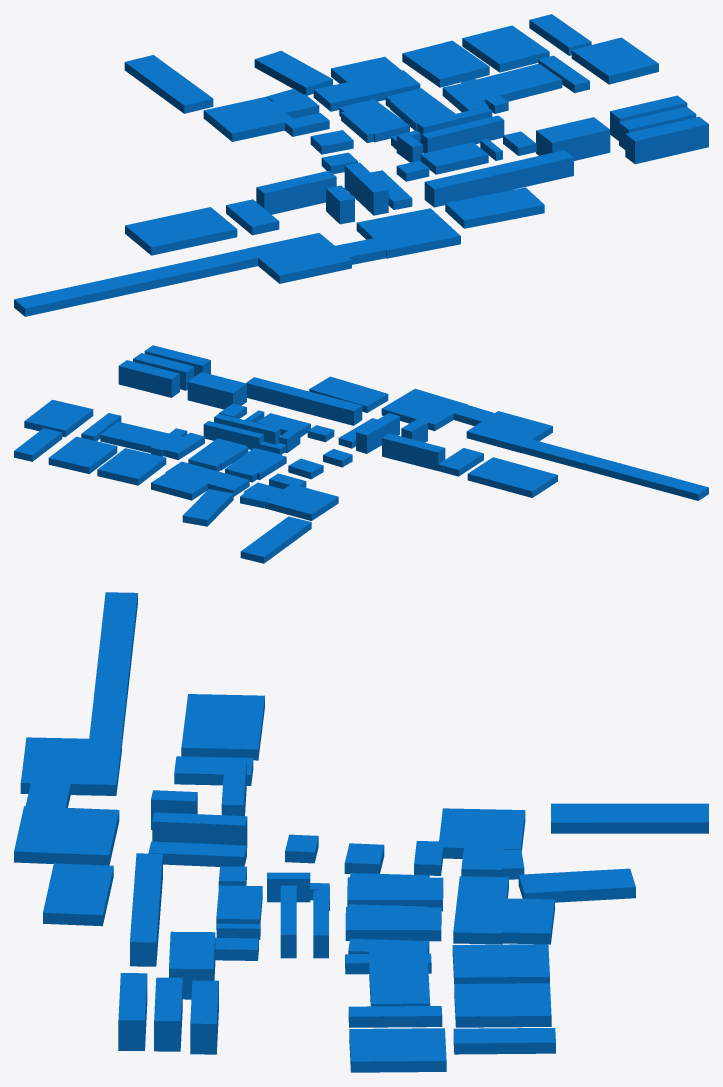
The model's file is Guali_Dummy_LOC.fbx.
The picture shows the model from 3 angles, top to bottom: view 1: azimuth 30°, elevation 25°; view 2: azimuth 150°, elevation 25°; view 3: azimuth 270°, elevation 25°; orthographic projection. The views are drawn at different scales.
Parts seen in each view (by area): view 1: Cube__35_, Cube__26_, Cube__37_, Cube__32_, Cube__33_, Cube__23_, Cube__31_, Cube__20_, Cube__19_, Cube__15_, Cube__8_, Cube__17_ (+31 smaller); view 2: Cube__35_, Cube__26_, Cube__37_, Cube__33_, Cube__32_, Cube__15_, Cube__8_, Cube__22_, Cube__17_, Cube__19_, Cube__10_, Cube__25_ (+28 smaller); view 3: Cube__32_, Cube__35_, Cube__33_, Cube__37_, Cube__10_, Cube__17_, Cube__20_, Cube__19_, Cube__31_, Cube__15_, Cube__8_, Cube__11_ (+31 smaller).
Part boxes in pixels (x1=…): Cube__35_: x1=14, y1=246, x2=265, y2=316; Cube__26_: x1=424, y1=150, x2=573, y2=207; Cube__37_: x1=125, y1=207, x2=237, y2=255; Cube__32_: x1=356, y1=208, x2=460, y2=258; Cube__33_: x1=247, y1=233, x2=351, y2=283; Cube__23_: x1=625, y1=116, x2=708, y2=164; Cube__31_: x1=445, y1=187, x2=544, y2=228; Cube__20_: x1=571, y1=37, x2=658, y2=84; Cube__19_: x1=402, y1=40, x2=489, y2=87; Cube__15_: x1=448, y1=63, x2=562, y2=102; Cube__8_: x1=203, y1=97, x2=292, y2=141; Cube__17_: x1=462, y1=25, x2=549, y2=72; Cube__35_: x1=508, y1=436, x2=708, y2=500; Cube__26_: x1=246, y1=377, x2=362, y2=425; Cube__37_: x1=467, y1=457, x2=557, y2=497; Cube__33_: x1=466, y1=411, x2=552, y2=452; Cube__32_: x1=381, y1=388, x2=467, y2=431; Cube__15_: x1=100, y1=421, x2=192, y2=456; Cube__8_: x1=264, y1=485, x2=338, y2=520; Cube__22_: x1=187, y1=372, x2=246, y2=409; Cube__17_: x1=48, y1=436, x2=117, y2=474; Cube__19_: x1=97, y1=448, x2=166, y2=485; Cube__10_: x1=240, y1=516, x2=311, y2=563; Cube__25_: x1=118, y1=360, x2=179, y2=397; Cube__32_: x1=14, y1=806, x2=119, y2=865; Cube__35_: x1=88, y1=592, x2=137, y2=750; Cube__33_: x1=20, y1=737, x2=121, y2=795; Cube__37_: x1=181, y1=694, x2=264, y2=760; Cube__10_: x1=551, y1=803, x2=708, y2=833; Cube__17_: x1=454, y1=983, x2=551, y2=1027; Cube__20_: x1=349, y1=1028, x2=446, y2=1072; Cube__19_: x1=452, y1=944, x2=549, y2=983; Cube__31_: x1=43, y1=863, x2=113, y2=926; Cube__15_: x1=368, y1=944, x2=430, y2=1006; Cube__8_: x1=438, y1=808, x2=525, y2=858; Cube__11_: x1=453, y1=876, x2=508, y2=944.
Size of the model in its own units: 88242 by 2686 by 55212.
